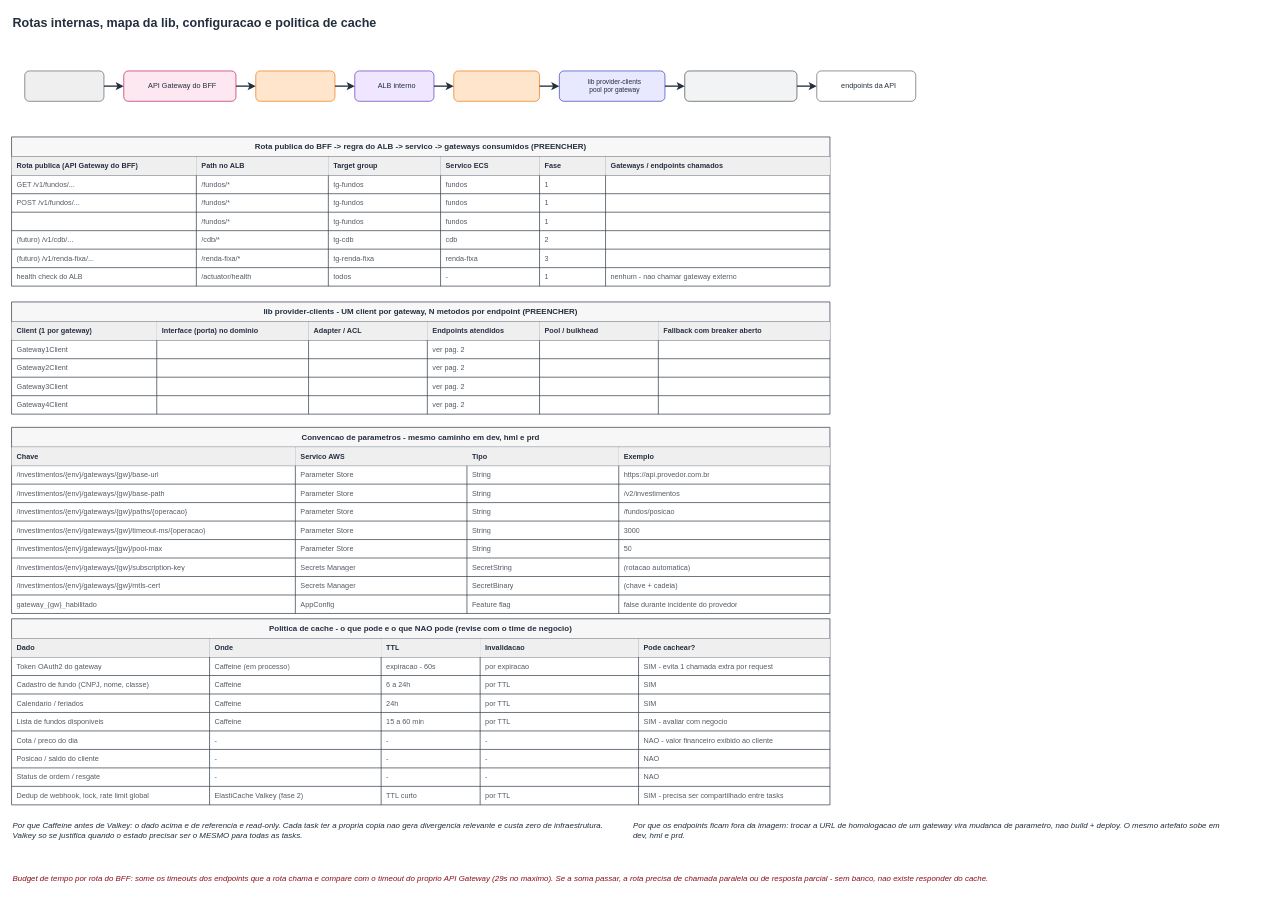
The diagram is 1277 pixels wide and 916 high, and some of its shapes have lost their labels. The shapes that lost their labels are listed below. From the top down, each one's centre as x and y in pixels, then its label:
(x=64, y=85): Cliente
(x=295, y=85): BFF (ECS)
(x=496, y=85): ECS fundos + Caffeine
(x=740, y=85): GATEWAY do provedor
